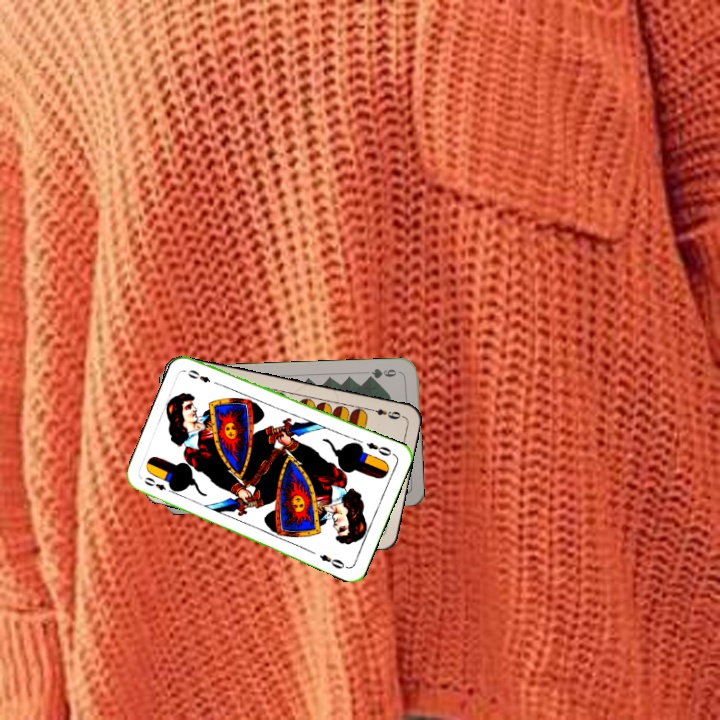E9: (365, 404, 403, 422)
EO: (140, 473, 178, 496), (362, 438, 397, 459)
G9: (363, 364, 403, 382)
